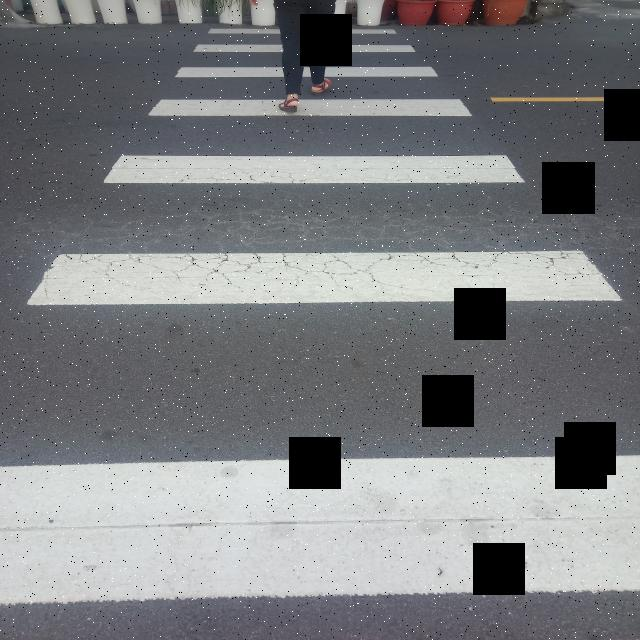person: (273, 0, 335, 112)
zebra crossing: (11, 22, 631, 605)
